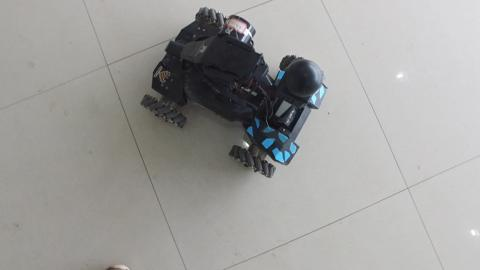chariot: (142, 16, 320, 179)
